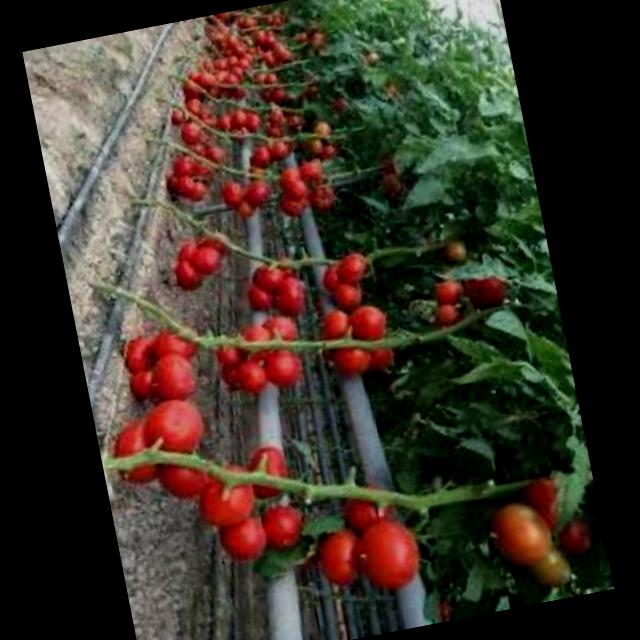Tomato: (108, 388, 316, 582), (290, 474, 446, 610), (484, 462, 615, 594), (414, 235, 537, 349), (198, 305, 314, 407), (308, 282, 416, 388), (200, 0, 330, 80), (118, 316, 216, 416), (248, 151, 348, 234), (197, 44, 294, 128), (166, 132, 236, 215), (260, 113, 348, 178), (167, 225, 240, 297), (308, 253, 388, 316), (223, 98, 285, 174), (245, 250, 309, 322), (170, 95, 232, 148), (223, 170, 280, 227)
